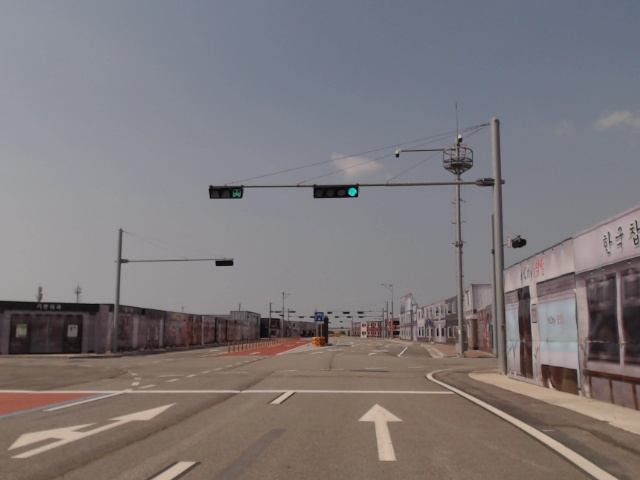straight_green_4: (312, 186, 358, 198)
